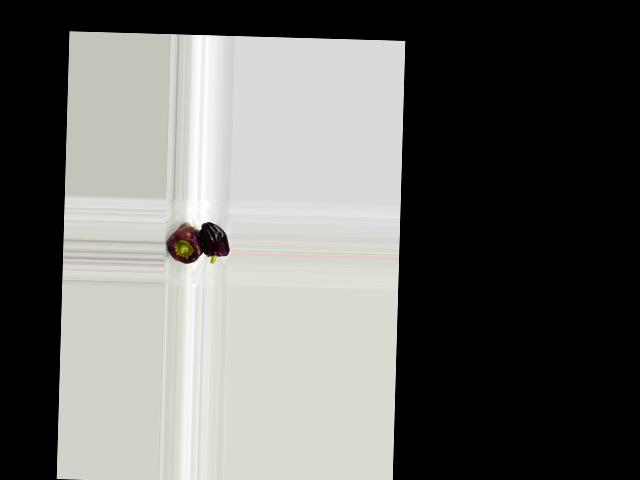bell_pepper: (165, 214, 204, 272)
